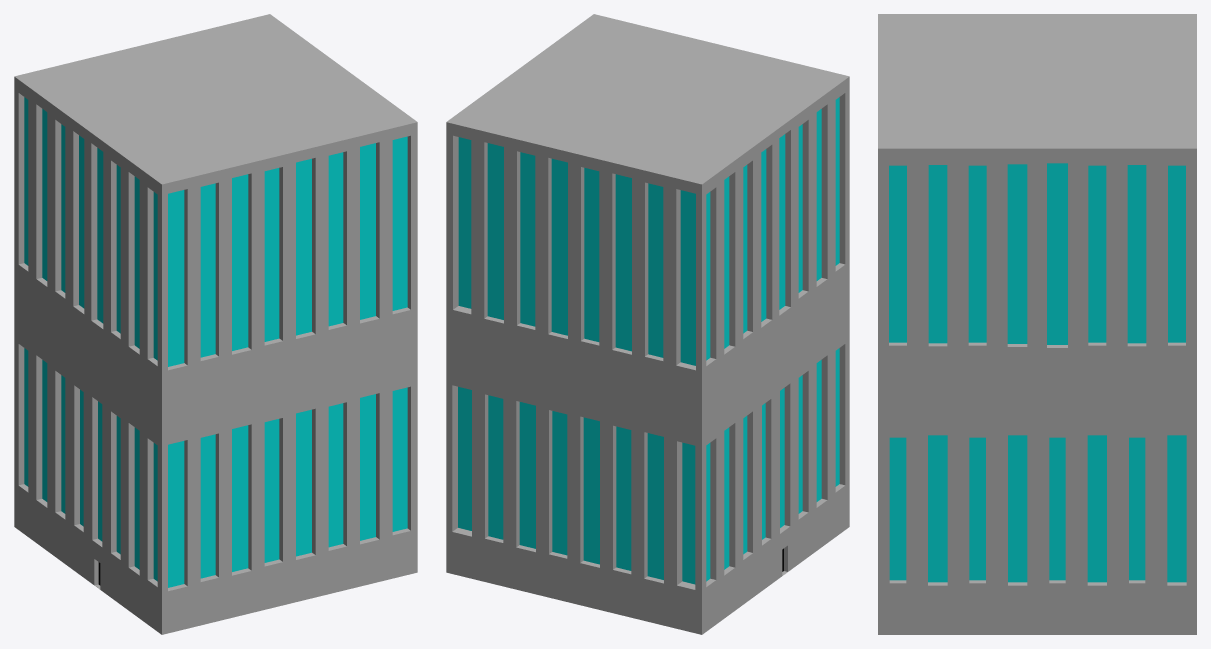
The model's file is Predio4.fbx.
3 renders of one model, left to right at view 1: azimuth 30°, elevation 25°; view 2: azimuth 150°, elevation 25°; view 3: azimuth 270°, elevation 25°, orthographic. The views are drawn at different scales.
Visible parts, largest first — view 1: Cube; view 2: Cube; view 3: Cube.
Part boxes in pixels (x1,y1,x2,y2): Cube: [14, 14, 417, 634]; Cube: [446, 14, 849, 634]; Cube: [878, 14, 1196, 634].
Size of the model in its own units: 200 by 336 by 200.
